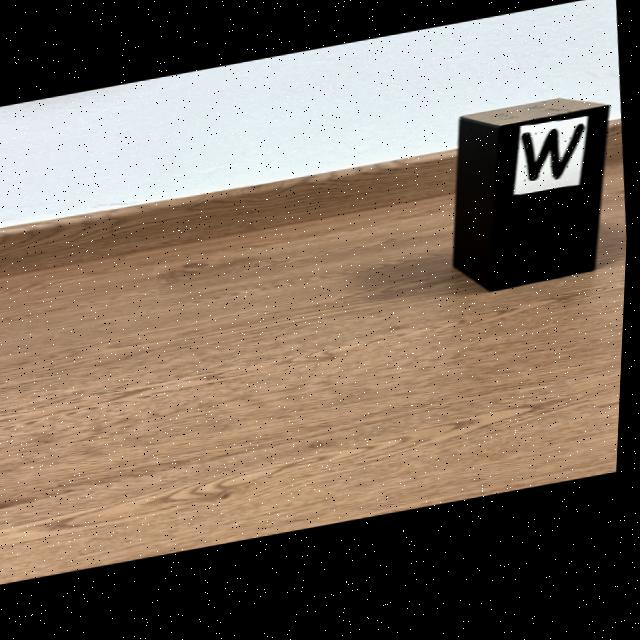W: (524, 136, 585, 192)
